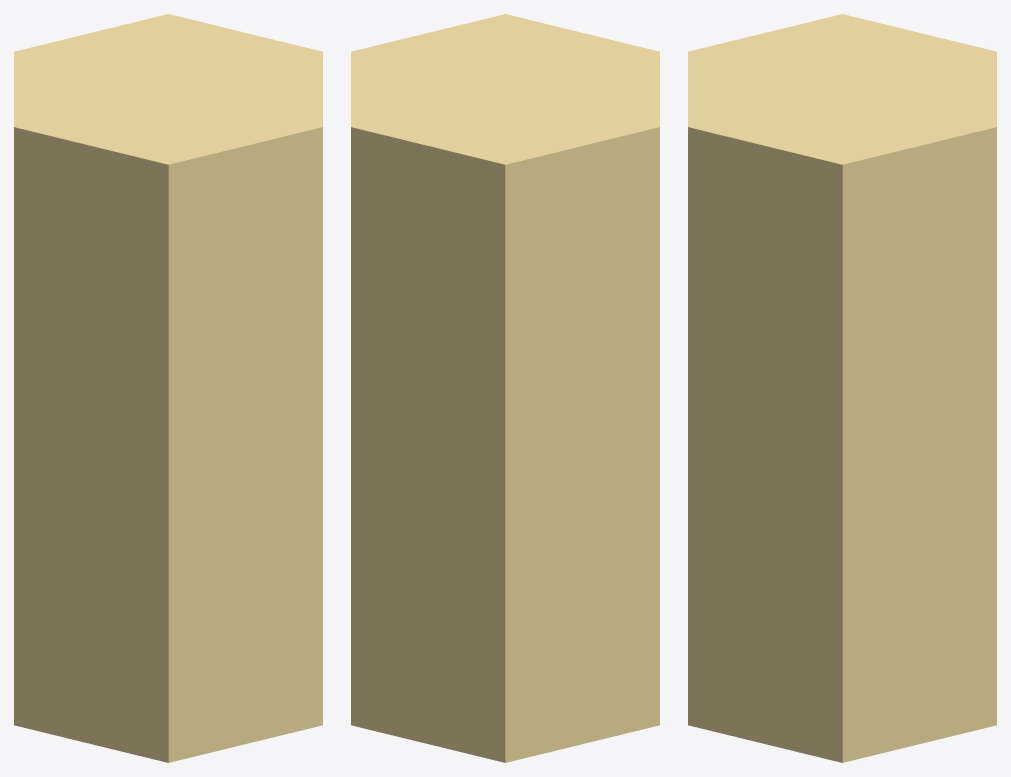
The model's file is lantern_glass.fbx.
The picture shows the model from 3 angles, left to right: view 1: azimuth 30°, elevation 25°; view 2: azimuth 150°, elevation 25°; view 3: azimuth 270°, elevation 25°; orthographic projection.
Parts seen in each view (by area): view 1: LanternGlass; view 2: LanternGlass; view 3: LanternGlass.
Boxes of the visible parts, box(x1,y1,x2,y2) form: LanternGlass: box(14, 14, 322, 762); LanternGlass: box(351, 14, 659, 762); LanternGlass: box(688, 14, 996, 762).
Bounding box in the file's own units: 0.1 × 0.185 × 0.0866.
